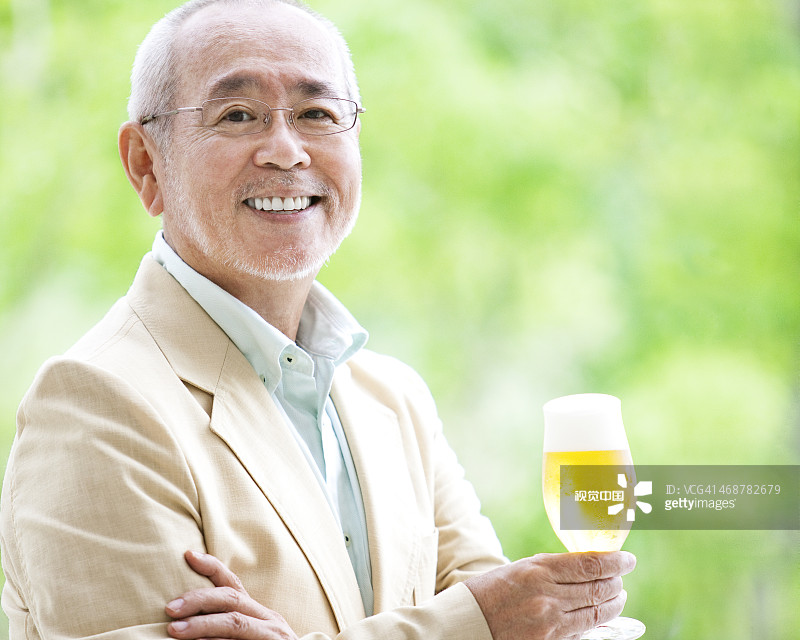no-phone: (453, 534, 678, 640)
